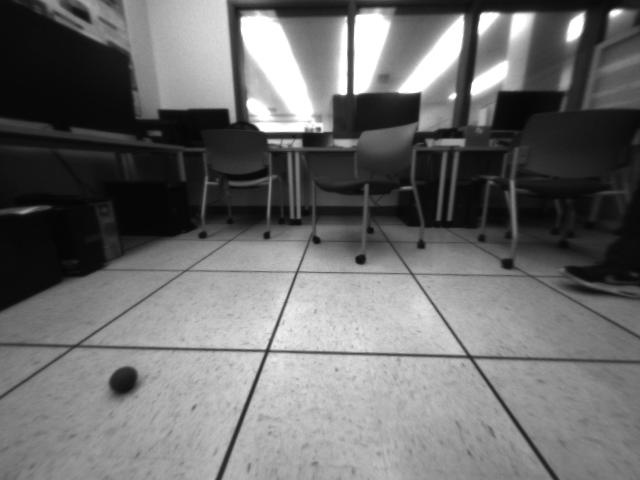dogtoy: (99, 354, 148, 405)
